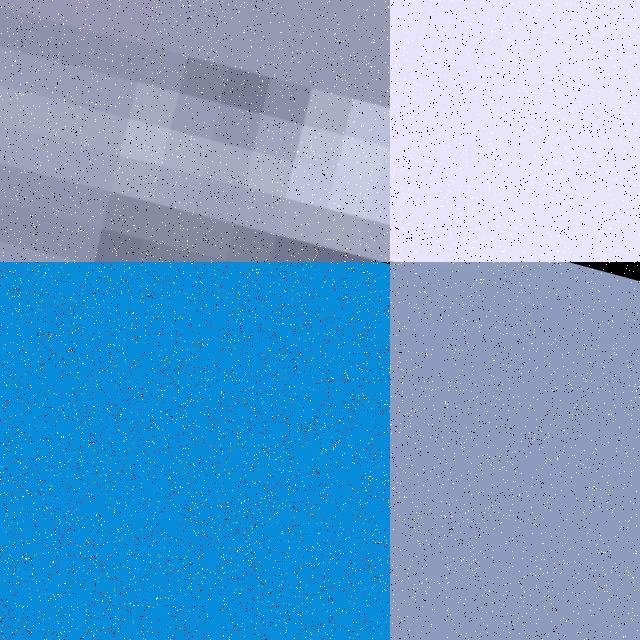0: (0, 0, 390, 262), (390, 0, 640, 262)
drone: (0, 262, 390, 640)
